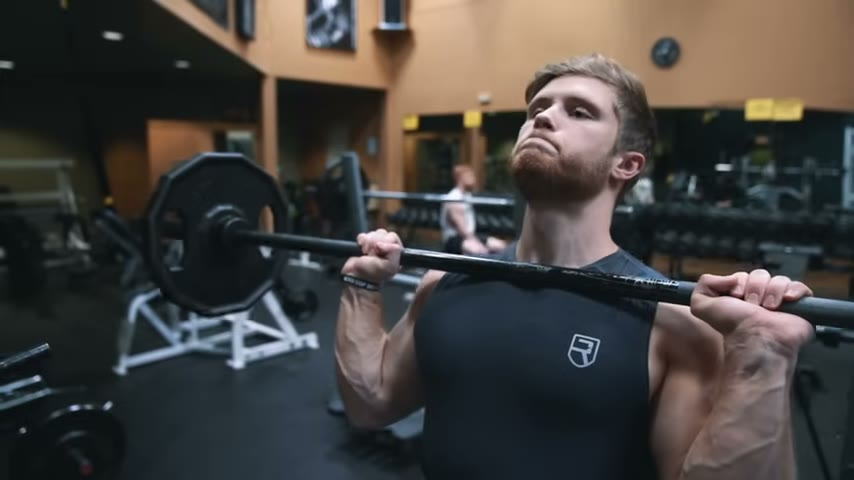barbell_plate_side: (139, 143, 292, 421)
